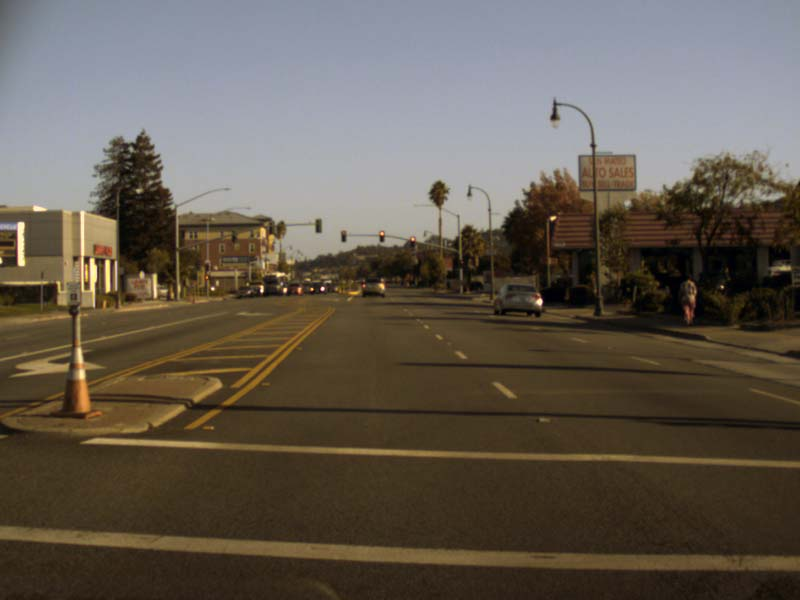Red: (340, 230, 346, 242), (378, 230, 384, 241), (409, 236, 414, 247), (459, 260, 463, 268)
